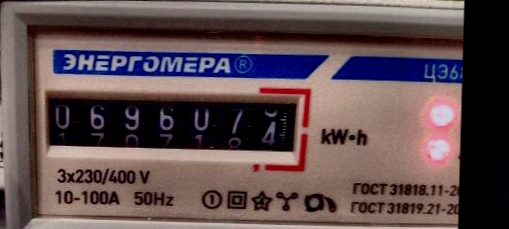0: (189, 104, 209, 134), (50, 103, 69, 131)
4: (258, 121, 274, 149)
6: (154, 105, 174, 134), (85, 103, 105, 131)
7: (225, 107, 243, 137)
9: (120, 105, 138, 133)
screen: (27, 75, 314, 172)
